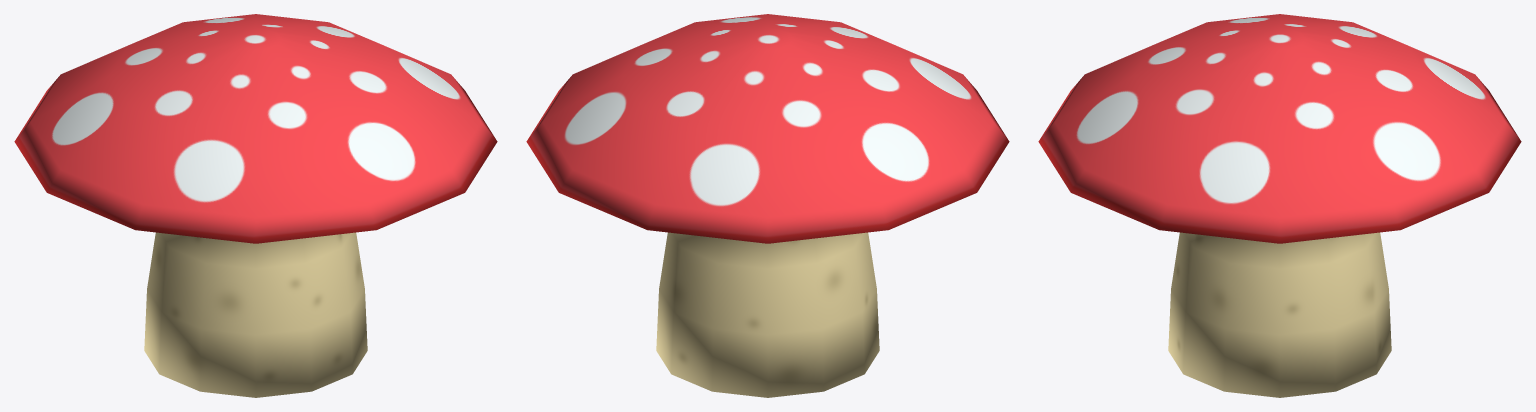
Rendered from linemate.glb.
3 views of the same model, side by side, from view 1: azimuth 30°, elevation 25°; view 2: azimuth 150°, elevation 25°; view 3: azimuth 270°, elevation 25° (orthographic).
Visible parts, largest first — view 1: Cylinder; view 2: Cylinder; view 3: Cylinder.
Boxes of the visible parts, left/top/right/bottom form: Cylinder: left=14, top=14, right=497, bottom=397; Cylinder: left=526, top=14, right=1009, bottom=397; Cylinder: left=1038, top=14, right=1521, bottom=397.
Bounding box in the file's own units: 472 × 336 × 472.
1 material, 1 textured.
